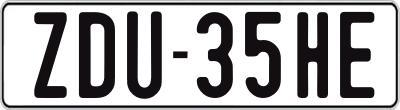3: (196, 12, 233, 101)
5: (245, 9, 285, 95)
D: (76, 11, 113, 101)
E: (338, 10, 377, 98)
H: (294, 9, 326, 100)
U: (125, 11, 160, 101)
Z: (34, 12, 69, 101)
